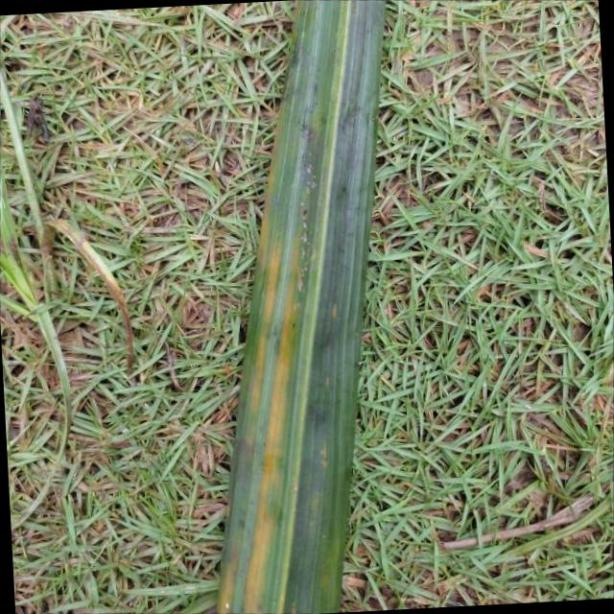Megnesium: (218, 0, 380, 614)
